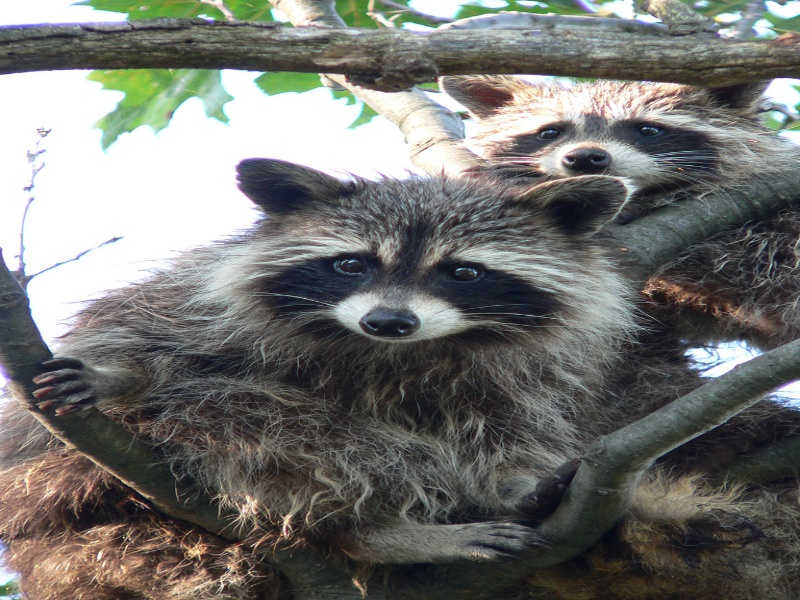raccoon: (1, 158, 639, 578), (436, 62, 776, 202)
